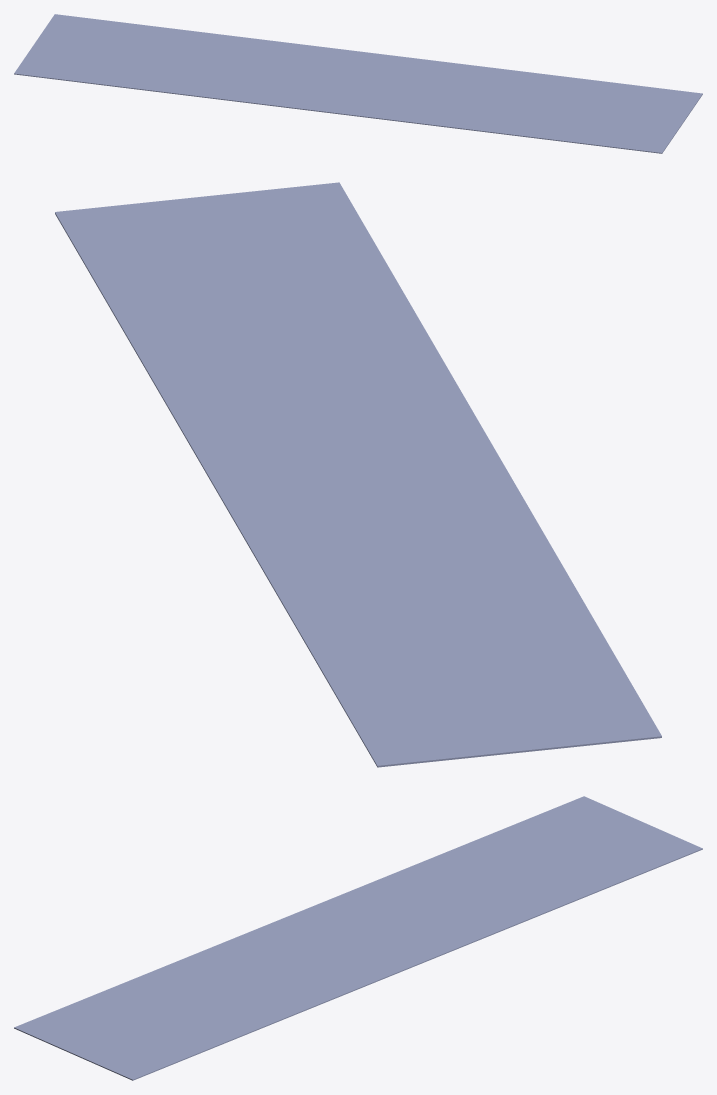
The model's file is road.005_lev1.glb.
3 renders of one model, top to bottom at view 1: azimuth 30°, elevation 25°; view 2: azimuth 150°, elevation 25°; view 3: azimuth 270°, elevation 25°, orthographic. The views are drawn at different scales.
Visible parts, largest first — view 1: road.005_lev1; view 2: road.005_lev1; view 3: road.005_lev1.
Part boxes in pixels (bbox=[...]): road.005_lev1: bbox=[14, 14, 702, 153]; road.005_lev1: bbox=[55, 182, 661, 767]; road.005_lev1: bbox=[14, 796, 702, 1080].
Bounding box in the file's own units: 71.77 × 0.1172 × 73.68.
1 material, 1 textured.
